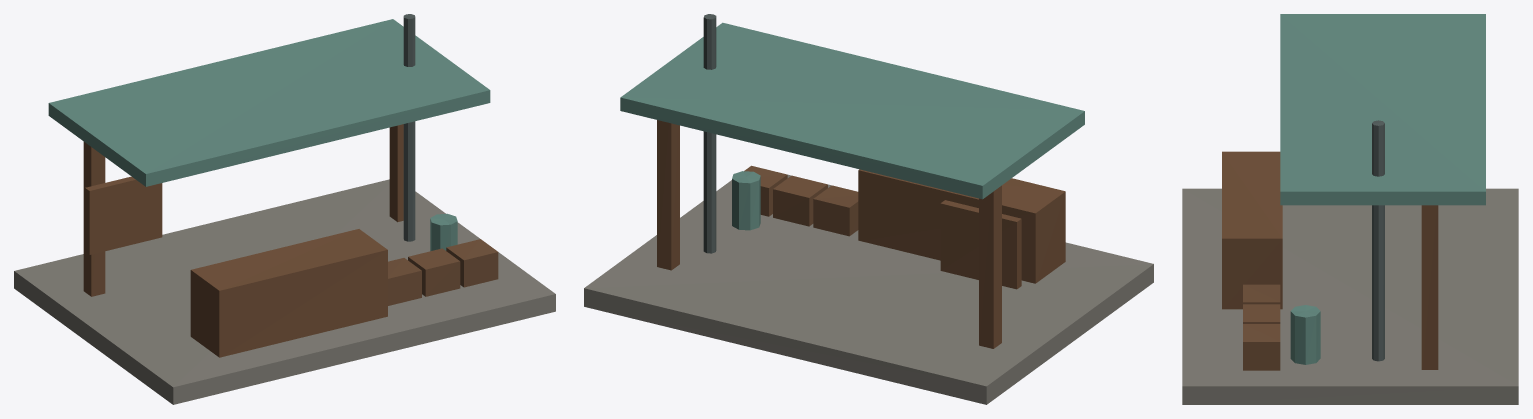
The model's file is agricultural-research-station.source.glb.
3 views of the same model, side by side, from view 1: azimuth 30°, elevation 25°; view 2: azimuth 150°, elevation 25°; view 3: azimuth 270°, elevation 25° (orthographic). The views are drawn at different scales.
Parts seen in each view (by area): view 1: agricultural-research-station-grounded-research-pad-mesh, agricultural-research-station-greenhouse-roof-mesh, agricultural-research-station-front-workbench-mesh, agricultural-research-station-simple-notice-board-mesh, agricultural-research-station-weather-instrument-mast-mesh, agricultural-research-station-timber-post-1-mesh, agricultural-research-station-soil-sample-crate-2-mesh, agricultural-research-station-soil-sample-crate-3-mesh, agricultural-research-station-timber-post-2-mesh, agricultural-research-station-soil-sample-crate-1-mesh, agricultural-research-station-rain-gauge-mesh; view 2: agricultural-research-station-grounded-research-pad-mesh, agricultural-research-station-greenhouse-roof-mesh, agricultural-research-station-front-workbench-mesh, agricultural-research-station-simple-notice-board-mesh, agricultural-research-station-timber-post-1-mesh, agricultural-research-station-timber-post-2-mesh, agricultural-research-station-weather-instrument-mast-mesh, agricultural-research-station-soil-sample-crate-1-mesh, agricultural-research-station-soil-sample-crate-2-mesh, agricultural-research-station-rain-gauge-mesh, agricultural-research-station-soil-sample-crate-3-mesh; view 3: agricultural-research-station-grounded-research-pad-mesh, agricultural-research-station-greenhouse-roof-mesh, agricultural-research-station-front-workbench-mesh, agricultural-research-station-timber-post-2-mesh, agricultural-research-station-weather-instrument-mast-mesh, agricultural-research-station-soil-sample-crate-3-mesh, agricultural-research-station-rain-gauge-mesh, agricultural-research-station-soil-sample-crate-1-mesh, agricultural-research-station-soil-sample-crate-2-mesh.
Boxes of the visible parts, <box> form: agricultural-research-station-grounded-research-pad-mesh: <box>14,179,555,404</box>; agricultural-research-station-greenhouse-roof-mesh: <box>48,19,490,186</box>; agricultural-research-station-front-workbench-mesh: <box>190,229,387,357</box>; agricultural-research-station-simple-notice-board-mesh: <box>85,176,162,254</box>; agricultural-research-station-weather-instrument-mast-mesh: <box>403,14,415,241</box>; agricultural-research-station-timber-post-1-mesh: <box>83,142,105,296</box>; agricultural-research-station-soil-sample-crate-2-mesh: <box>408,248,460,296</box>; agricultural-research-station-soil-sample-crate-3-mesh: <box>446,239,498,287</box>; agricultural-research-station-timber-post-2-mesh: <box>389,124,403,222</box>; agricultural-research-station-soil-sample-crate-1-mesh: <box>388,258,421,305</box>; agricultural-research-station-rain-gauge-mesh: <box>430,213,457,251</box>; agricultural-research-station-grounded-research-pad-mesh: <box>584,174,1153,404</box>; agricultural-research-station-greenhouse-roof-mesh: <box>620,22,1084,199</box>; agricultural-research-station-front-workbench-mesh: <box>858,169,1065,283</box>; agricultural-research-station-simple-notice-board-mesh: <box>940,200,1021,289</box>; agricultural-research-station-timber-post-1-mesh: <box>979,185,1001,348</box>; agricultural-research-station-timber-post-2-mesh: <box>657,120,679,270</box>; agricultural-research-station-weather-instrument-mast-mesh: <box>703,14,716,253</box>; agricultural-research-station-soil-sample-crate-1-mesh: <box>813,185,858,236</box>; agricultural-research-station-soil-sample-crate-2-mesh: <box>773,175,827,226</box>; agricultural-research-station-rain-gauge-mesh: <box>732,171,760,230</box>; agricultural-research-station-soil-sample-crate-3-mesh: <box>744,165,787,216</box>; agricultural-research-station-grounded-research-pad-mesh: <box>1182,188,1518,404</box>; agricultural-research-station-greenhouse-roof-mesh: <box>1280,14,1485,205</box>; agricultural-research-station-front-workbench-mesh: <box>1222,151,1282,309</box>; agricultural-research-station-timber-post-2-mesh: <box>1421,205,1438,369</box>; agricultural-research-station-weather-instrument-mast-mesh: <box>1372,120,1384,361</box>; agricultural-research-station-soil-sample-crate-3-mesh: <box>1243,324,1280,370</box>; agricultural-research-station-rain-gauge-mesh: <box>1290,305,1320,364</box>; agricultural-research-station-soil-sample-crate-1-mesh: <box>1243,284,1280,304</box>; agricultural-research-station-soil-sample-crate-2-mesh: <box>1243,304,1280,323</box>.
Bounding box in the file's own units: 5 × 3 × 3.6.
